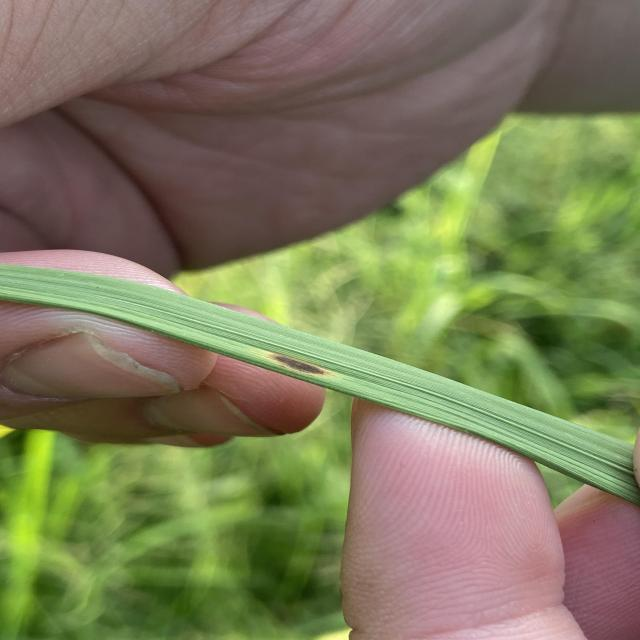Dom nau: (274, 355, 325, 375)
